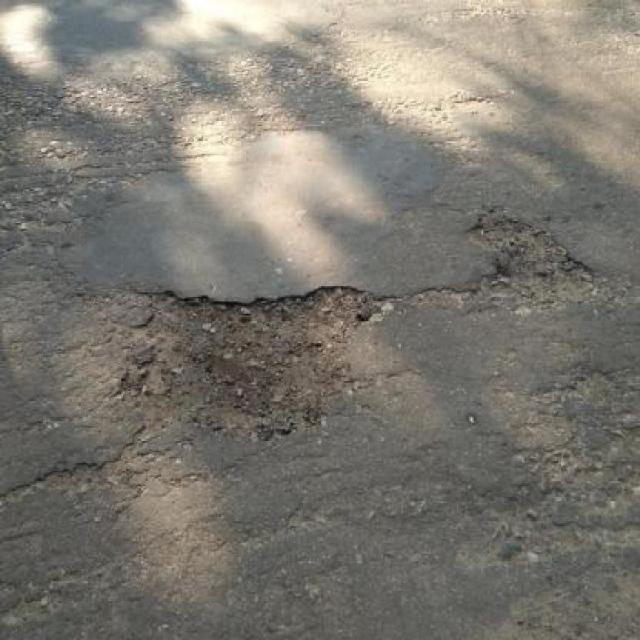Pothole: (110, 278, 368, 451), (463, 212, 599, 318)
